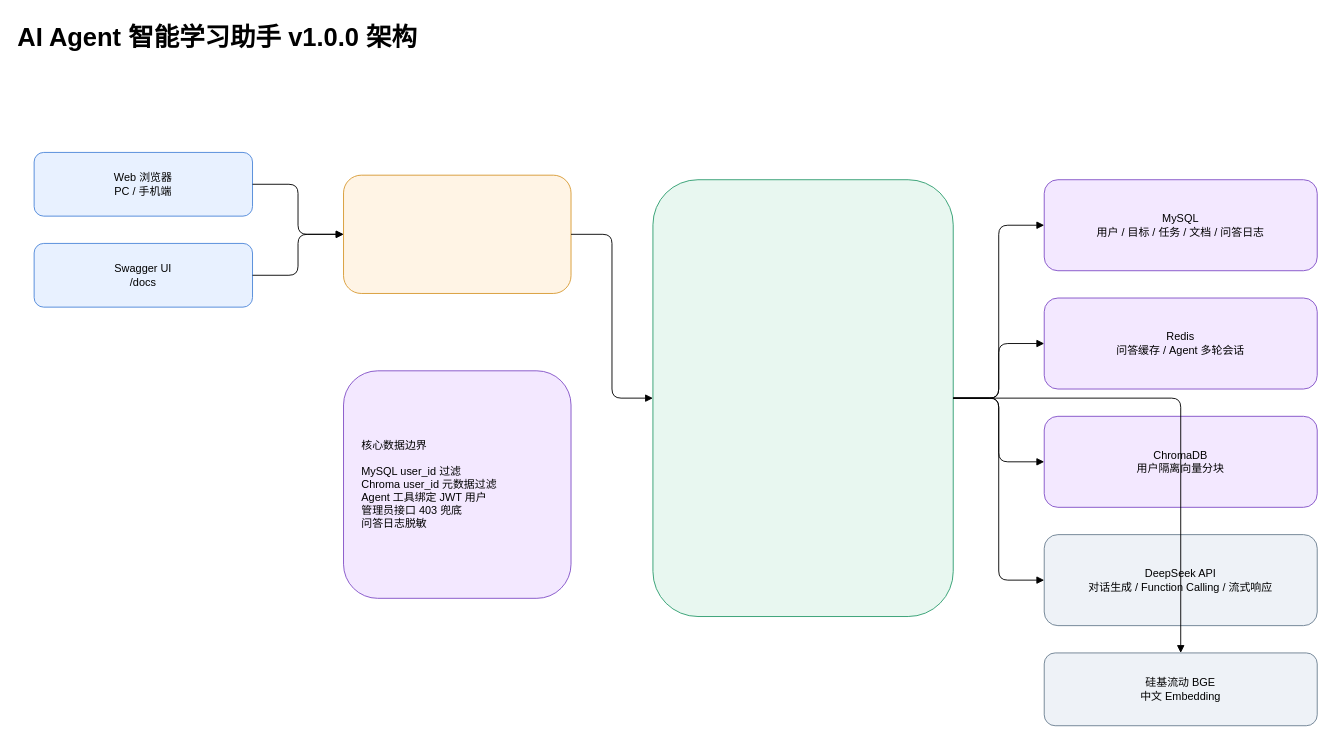
The diagram is 1333 pixels wide and 742 high, and some of its shapes have lost their labels. Here are the shapes that lost their labels. From the top down, the centre of each, then its label:
At (x=457, y=233): "Nginx HTTP 反向代理 静态资源 / API / SSE".
At (x=802, y=398): "FastAPI 应用 API 路由层 Service 业务层 数据访问与工具层 JWT / RBAC / RAG / Agent / 日志".
